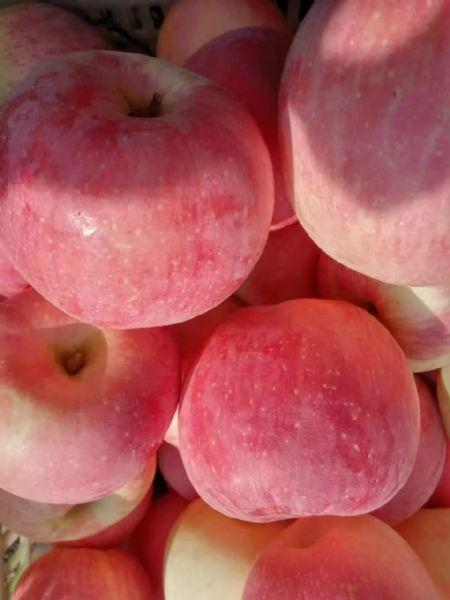apple: (1, 40, 279, 328), (178, 300, 425, 518), (274, 1, 445, 300), (1, 297, 183, 506)
